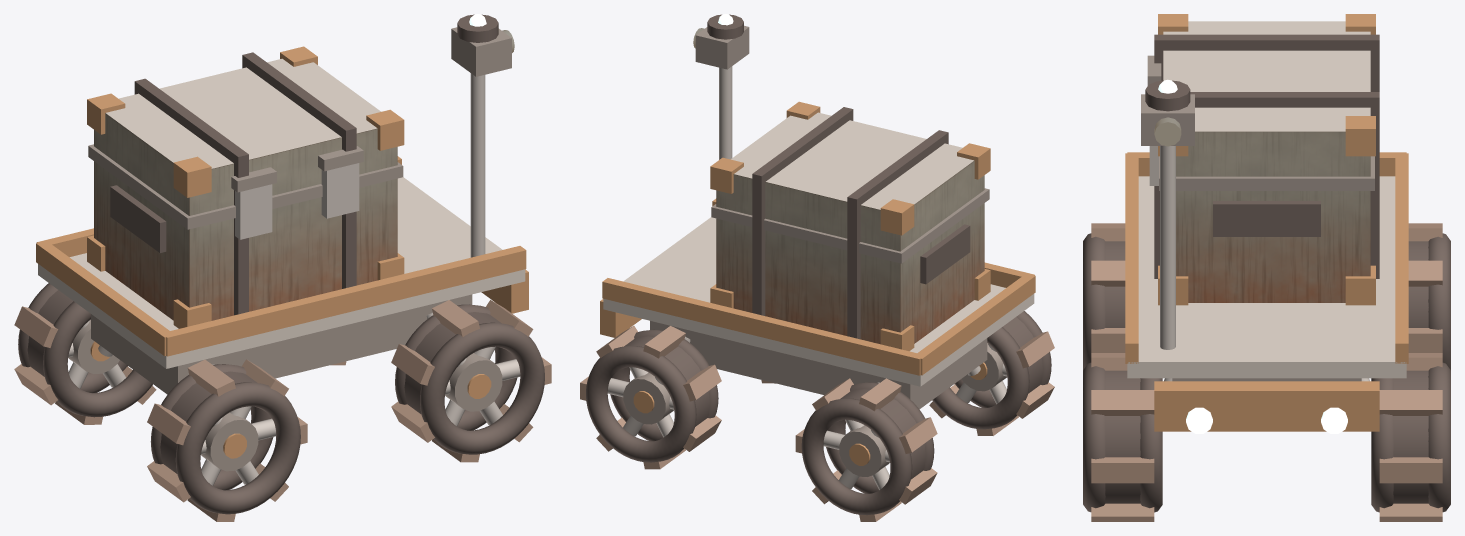
Rendered from V11_cargo_robot_large.glb.
3 views of the same model, side by side, from view 1: azimuth 30°, elevation 25°; view 2: azimuth 150°, elevation 25°; view 3: azimuth 270°, elevation 25° (orthographic). The views are drawn at different scales.
Visible parts, largest first — view 1: shell, tire_edge (×6), deck_rail (×3), deck, chassis, tread (×10), cargo_strap (×2), hub (×3), corner_cap (×4), tire (×3), latch (×2), lid_seam (+6 smaller); view 2: shell, tire_edge (×6), deck_rail (×3), deck, cargo_strap (×2), chassis, tread (×8), hub (×3), corner_cap (×4), lid_seam, tire (×3), grip_recess (+4 smaller); view 3: shell, deck, tread (×14), tire_edge (×6), bumper, cargo_strap (×2), tire (×4), deck_rail (×3), grip_recess, corner_cap (×5), sensor_mast, lid_seam (+5 smaller).
Boxes of the visible parts, x1=… form: shell: x1=94, y1=58, x2=397, y2=320; tire_edge (×6): x1=18, y1=283, x2=544, y2=514; deck_rail (×3): x1=36, y1=156, x2=526, y2=356; deck: x1=38, y1=177, x2=525, y2=368; chassis: x1=91, y1=294, x2=472, y2=394; tread (×10): x1=14, y1=300, x2=533, y2=502; cargo_strap (×2): x1=134, y1=52, x2=356, y2=315; hub (×3): x1=68, y1=319, x2=502, y2=471; corner_cap (×4): x1=87, y1=93, x2=404, y2=328; tire (×3): x1=27, y1=290, x2=501, y2=473; latch (×2): x1=235, y1=163, x2=359, y2=239; lid_seam: x1=88, y1=144, x2=403, y2=229; shell: x1=716, y1=112, x2=984, y2=344; tire_edge (×6): x1=586, y1=311, x2=1051, y2=515; deck_rail (×3): x1=602, y1=198, x2=1035, y2=375; deck: x1=603, y1=217, x2=1034, y2=386; cargo_strap (×2): x1=752, y1=107, x2=948, y2=339; chassis: x1=650, y1=321, x2=987, y2=409; tread (×8): x1=643, y1=326, x2=1054, y2=504; hub (×3): x1=623, y1=343, x2=1006, y2=476; corner_cap (×4): x1=710, y1=143, x2=990, y2=351; lid_seam: x1=711, y1=188, x2=989, y2=263; tire (×3): x1=624, y1=317, x2=1042, y2=479; grip_recess: x1=920, y1=224, x2=970, y2=284; shell: x1=1163, y1=21, x2=1370, y2=302; deck: x1=1127, y1=176, x2=1406, y2=378; tread (×14): x1=1091, y1=223, x2=1442, y2=521; tire_edge (×6): x1=1083, y1=233, x2=1450, y2=512; bumper: x1=1154, y1=381, x2=1379, y2=431; cargo_strap (×2): x1=1154, y1=34, x2=1379, y2=278; tire (×4): x1=1105, y1=241, x2=1428, y2=503; deck_rail (×3): x1=1125, y1=152, x2=1408, y2=363; grip_recess: x1=1213, y1=201, x2=1320, y2=236; corner_cap (×5): x1=1158, y1=14, x2=1375, y2=305; sensor_mast: x1=1160, y1=146, x2=1175, y2=349; lid_seam: x1=1159, y1=156, x2=1374, y2=190.
Bounding box in the file's own units: 1.73 × 1.76 × 1.31.
9 materials, 1 textured.
